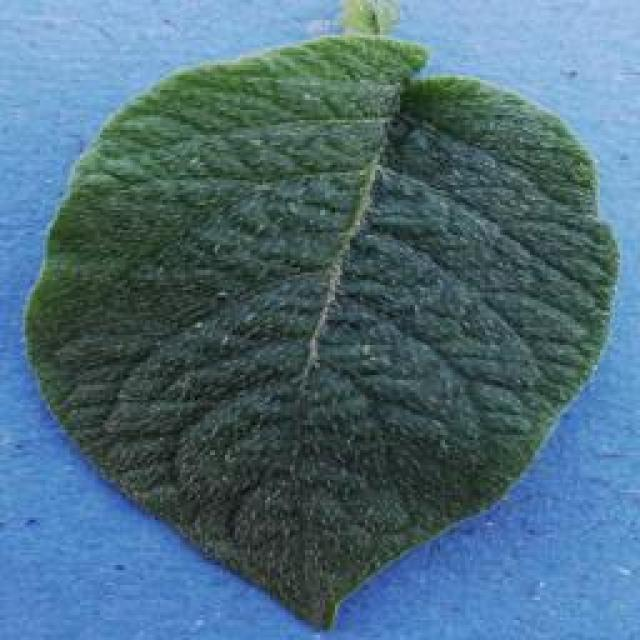Potato_Healthy: (22, 10, 613, 630)
